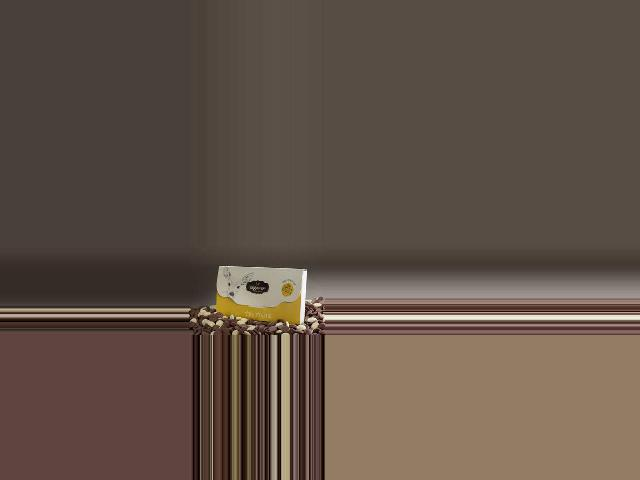chocolate: (210, 262, 311, 327)
